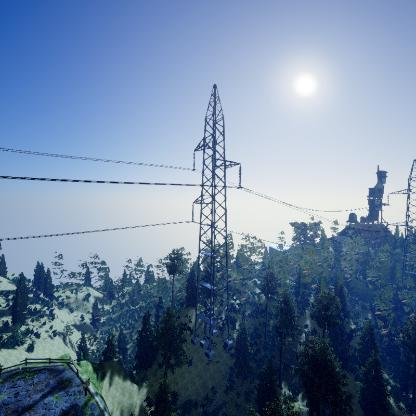tower: (188, 80, 246, 359)
